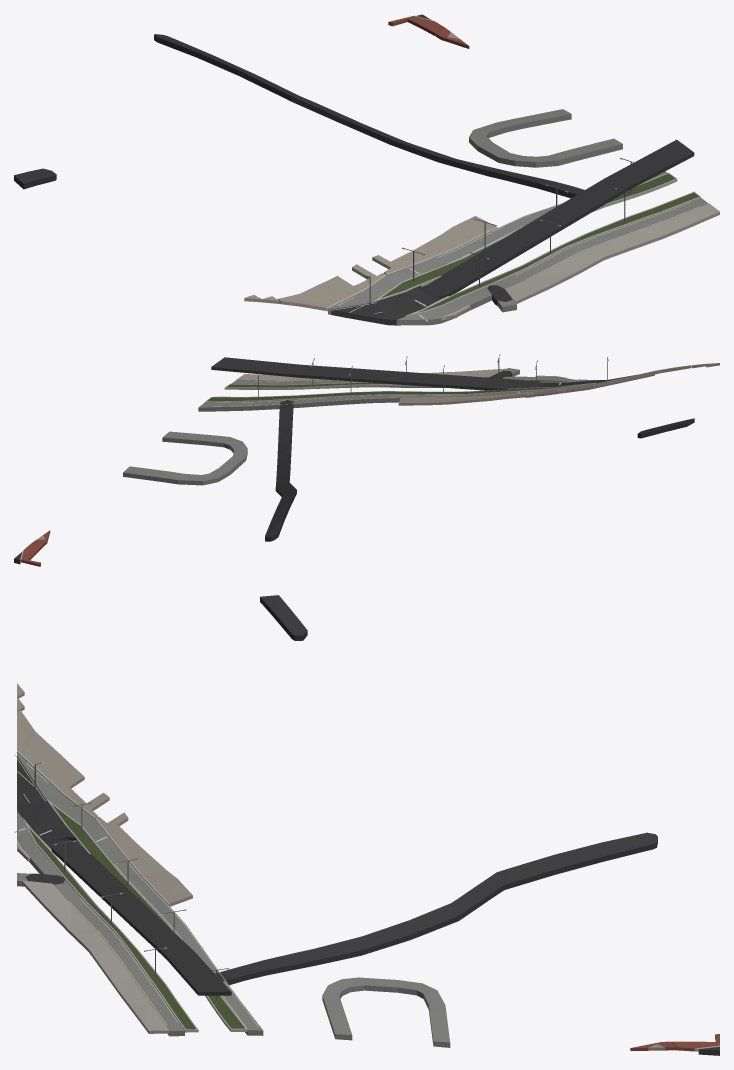
3 views of the same model, one above another, from view 1: azimuth 30°, elevation 25°; view 2: azimuth 150°, elevation 25°; view 3: azimuth 270°, elevation 25° (orthographic). The views are drawn at different scales.
Bounding box in the file's own units: 147 × 37.02 × 146.
